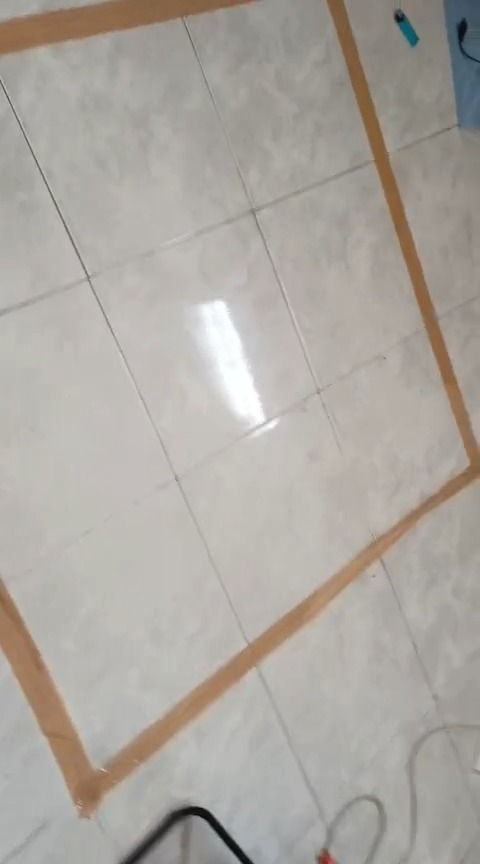floor marking: (0, 0, 479, 817), (0, 0, 252, 55)
